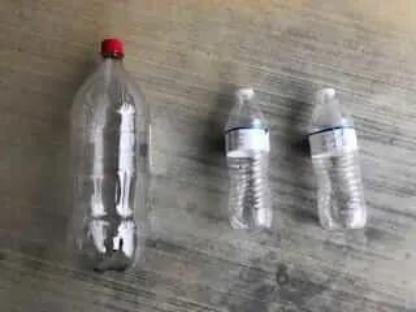Plastic Bottle: (73, 38, 147, 270), (310, 88, 364, 229), (226, 86, 274, 229)
